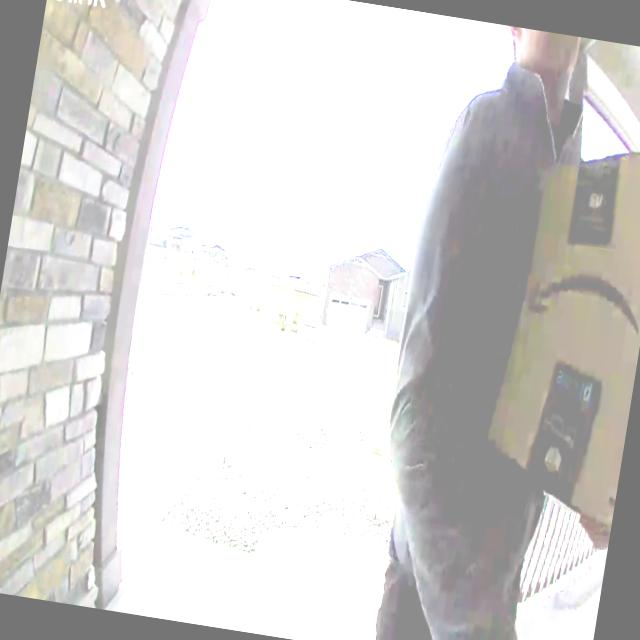Box: (497, 130, 640, 545)
